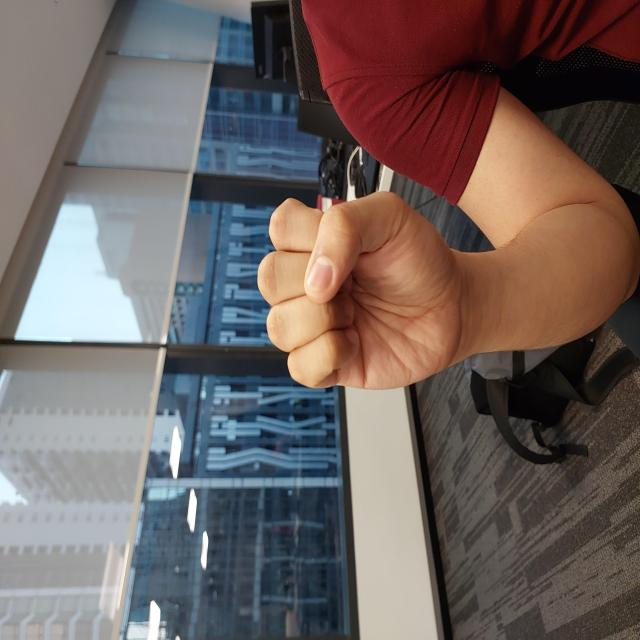S: (247, 256, 453, 467)
